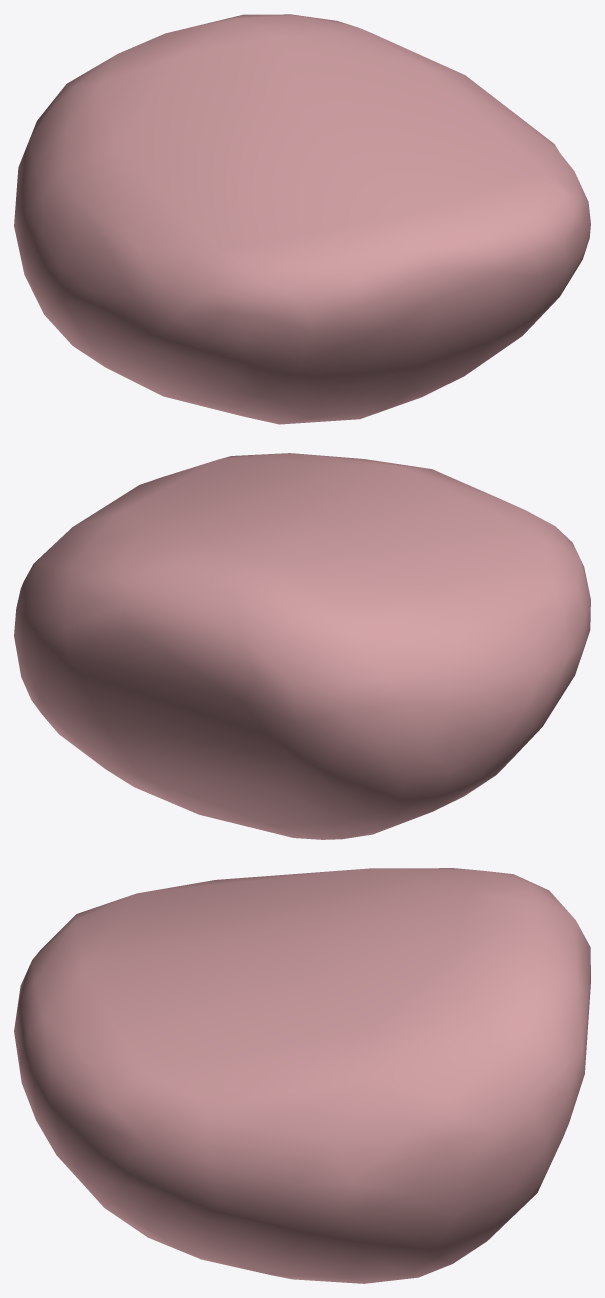
Rendered from fma9600_fj3139.glb.
3 renders of one model, top to bottom at view 1: azimuth 30°, elevation 25°; view 2: azimuth 150°, elevation 25°; view 3: azimuth 270°, elevation 25°, orthographic. The views are drawn at different scales.
Parts seen in each view (by area): view 1: FMA9600_FJ3139; view 2: FMA9600_FJ3139; view 3: FMA9600_FJ3139.
Boxes of the visible parts, x1=… form: FMA9600_FJ3139: x1=14, y1=14, x2=590, y2=424; FMA9600_FJ3139: x1=14, y1=453, x2=590, y2=839; FMA9600_FJ3139: x1=14, y1=868, x2=590, y2=1283.
Bounding box in the file's own units: 0.0343 × 0.0204 × 0.032.
